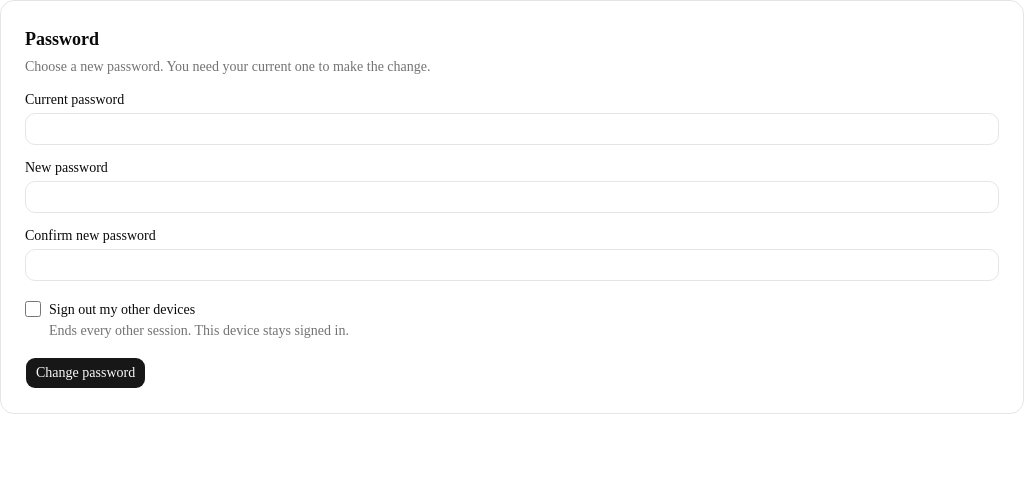
Test case: ChangePasswordForm › leaves the other devices alone unless the change explicitly asks
Type "the first correct password" into the password field labelled "Current password" at (512, 129), box [25,113,999,145]
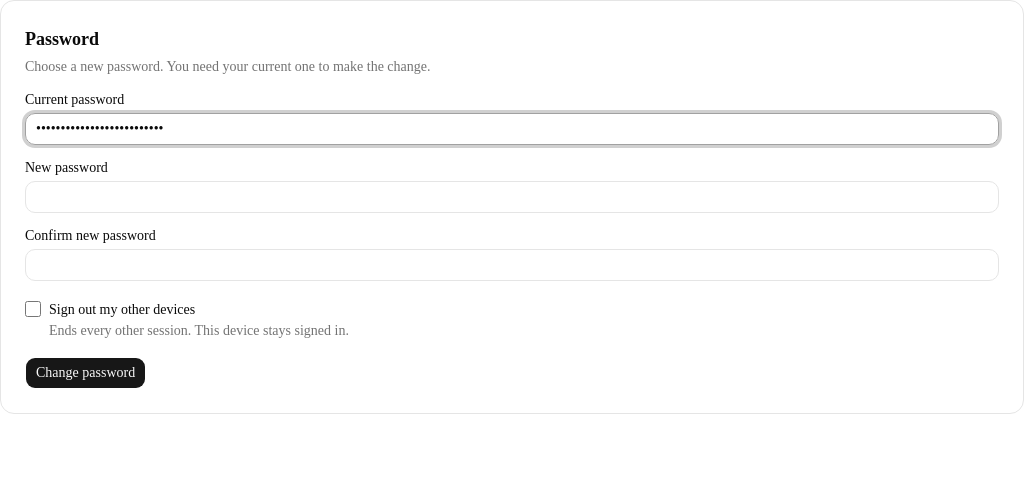
Type "a new long password" into the password field labelled "New password" at (512, 197), box [25,181,999,213]
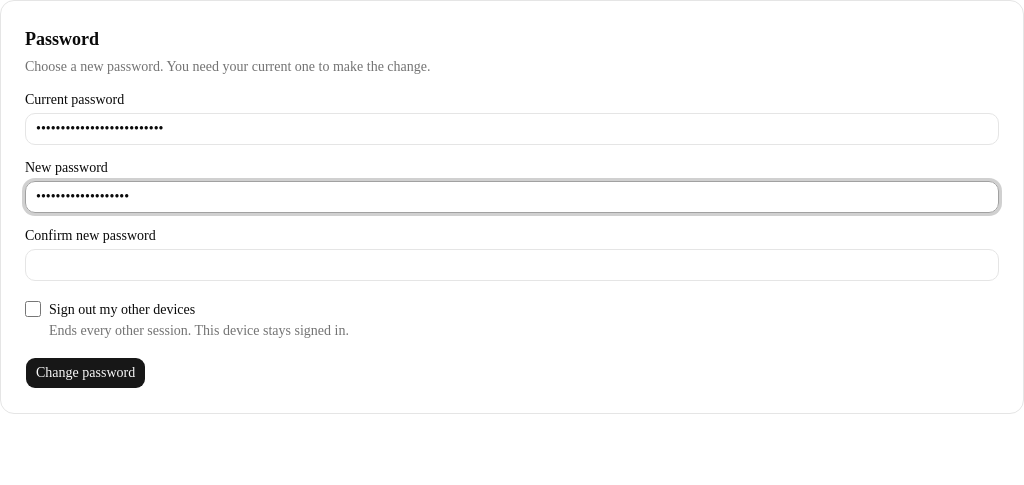
Type "a new long password" into the password field labelled "Confirm new password" at (512, 265), box [25,249,999,281]
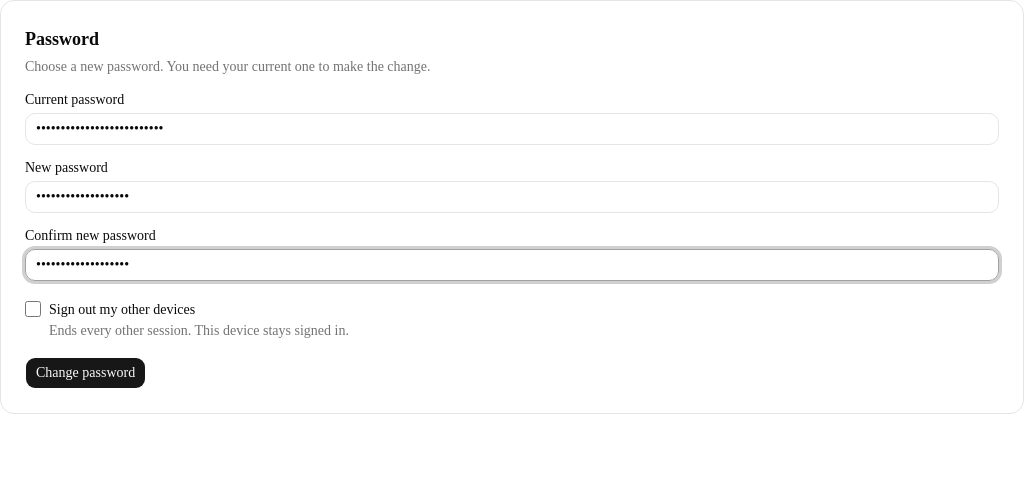
Click the button "Change password" at (86, 373), box [25,357,146,389]
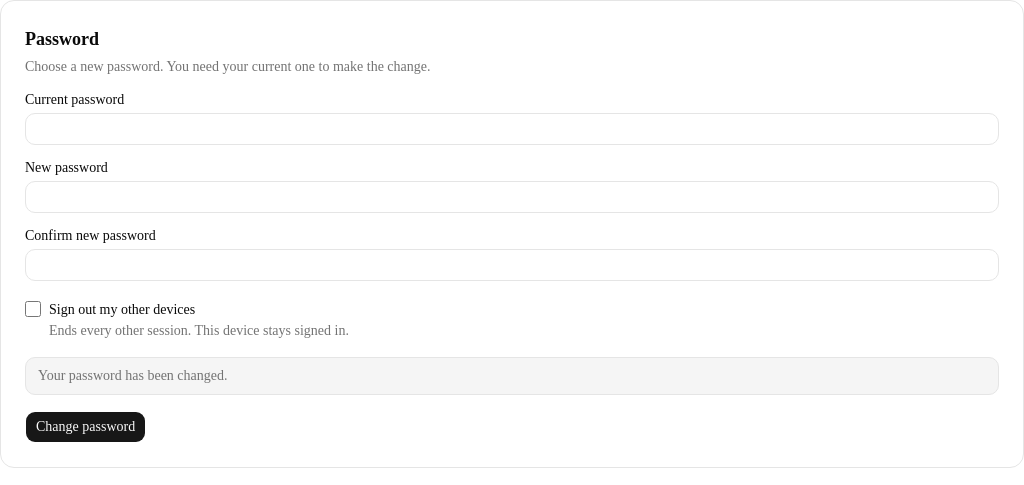
Now the text "Your password has been changed." is shown, box [25,357,999,395]
